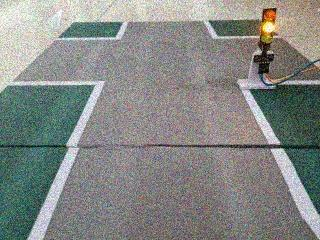yellow: (251, 3, 287, 51)
